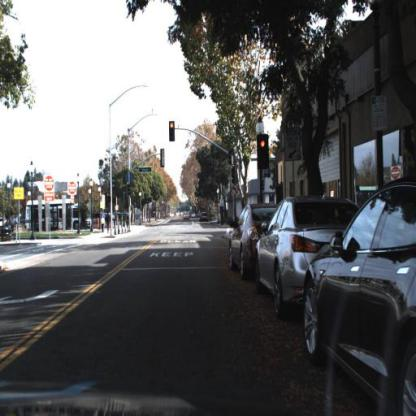car: (304, 178, 416, 416), (254, 193, 361, 322), (230, 202, 277, 279)
pedestrian: (106, 212, 116, 233), (100, 212, 105, 234)
trafficLight-Red: (257, 133, 271, 173), (259, 137, 269, 168), (167, 121, 179, 142)
truck: (24, 197, 94, 233)
